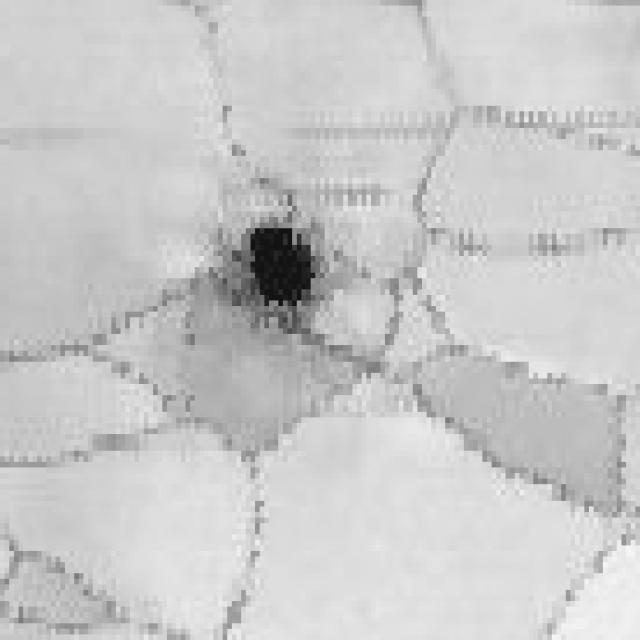good_void: (205, 204, 342, 338)
